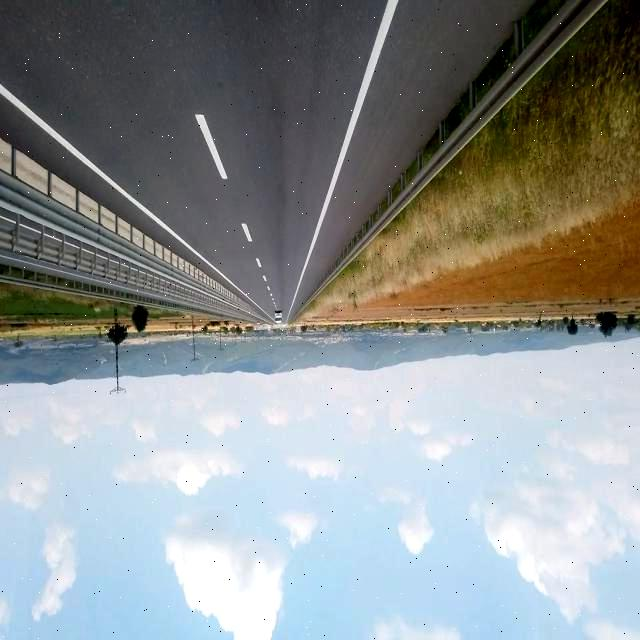lane: (1, 85, 247, 296), (301, 7, 399, 281), (195, 114, 228, 180), (241, 223, 252, 242)
road: (2, 1, 532, 317)
